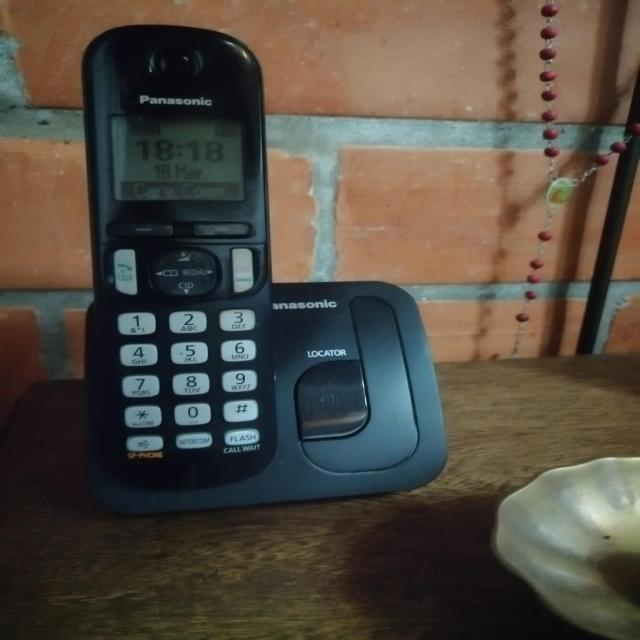Phone: (79, 21, 449, 518)
